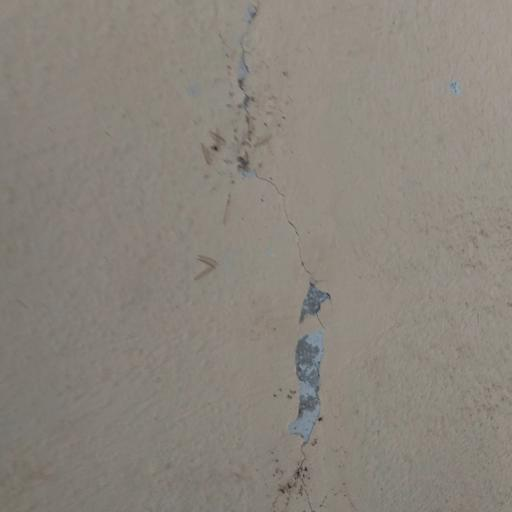minor_crack: (213, 25, 352, 512)
